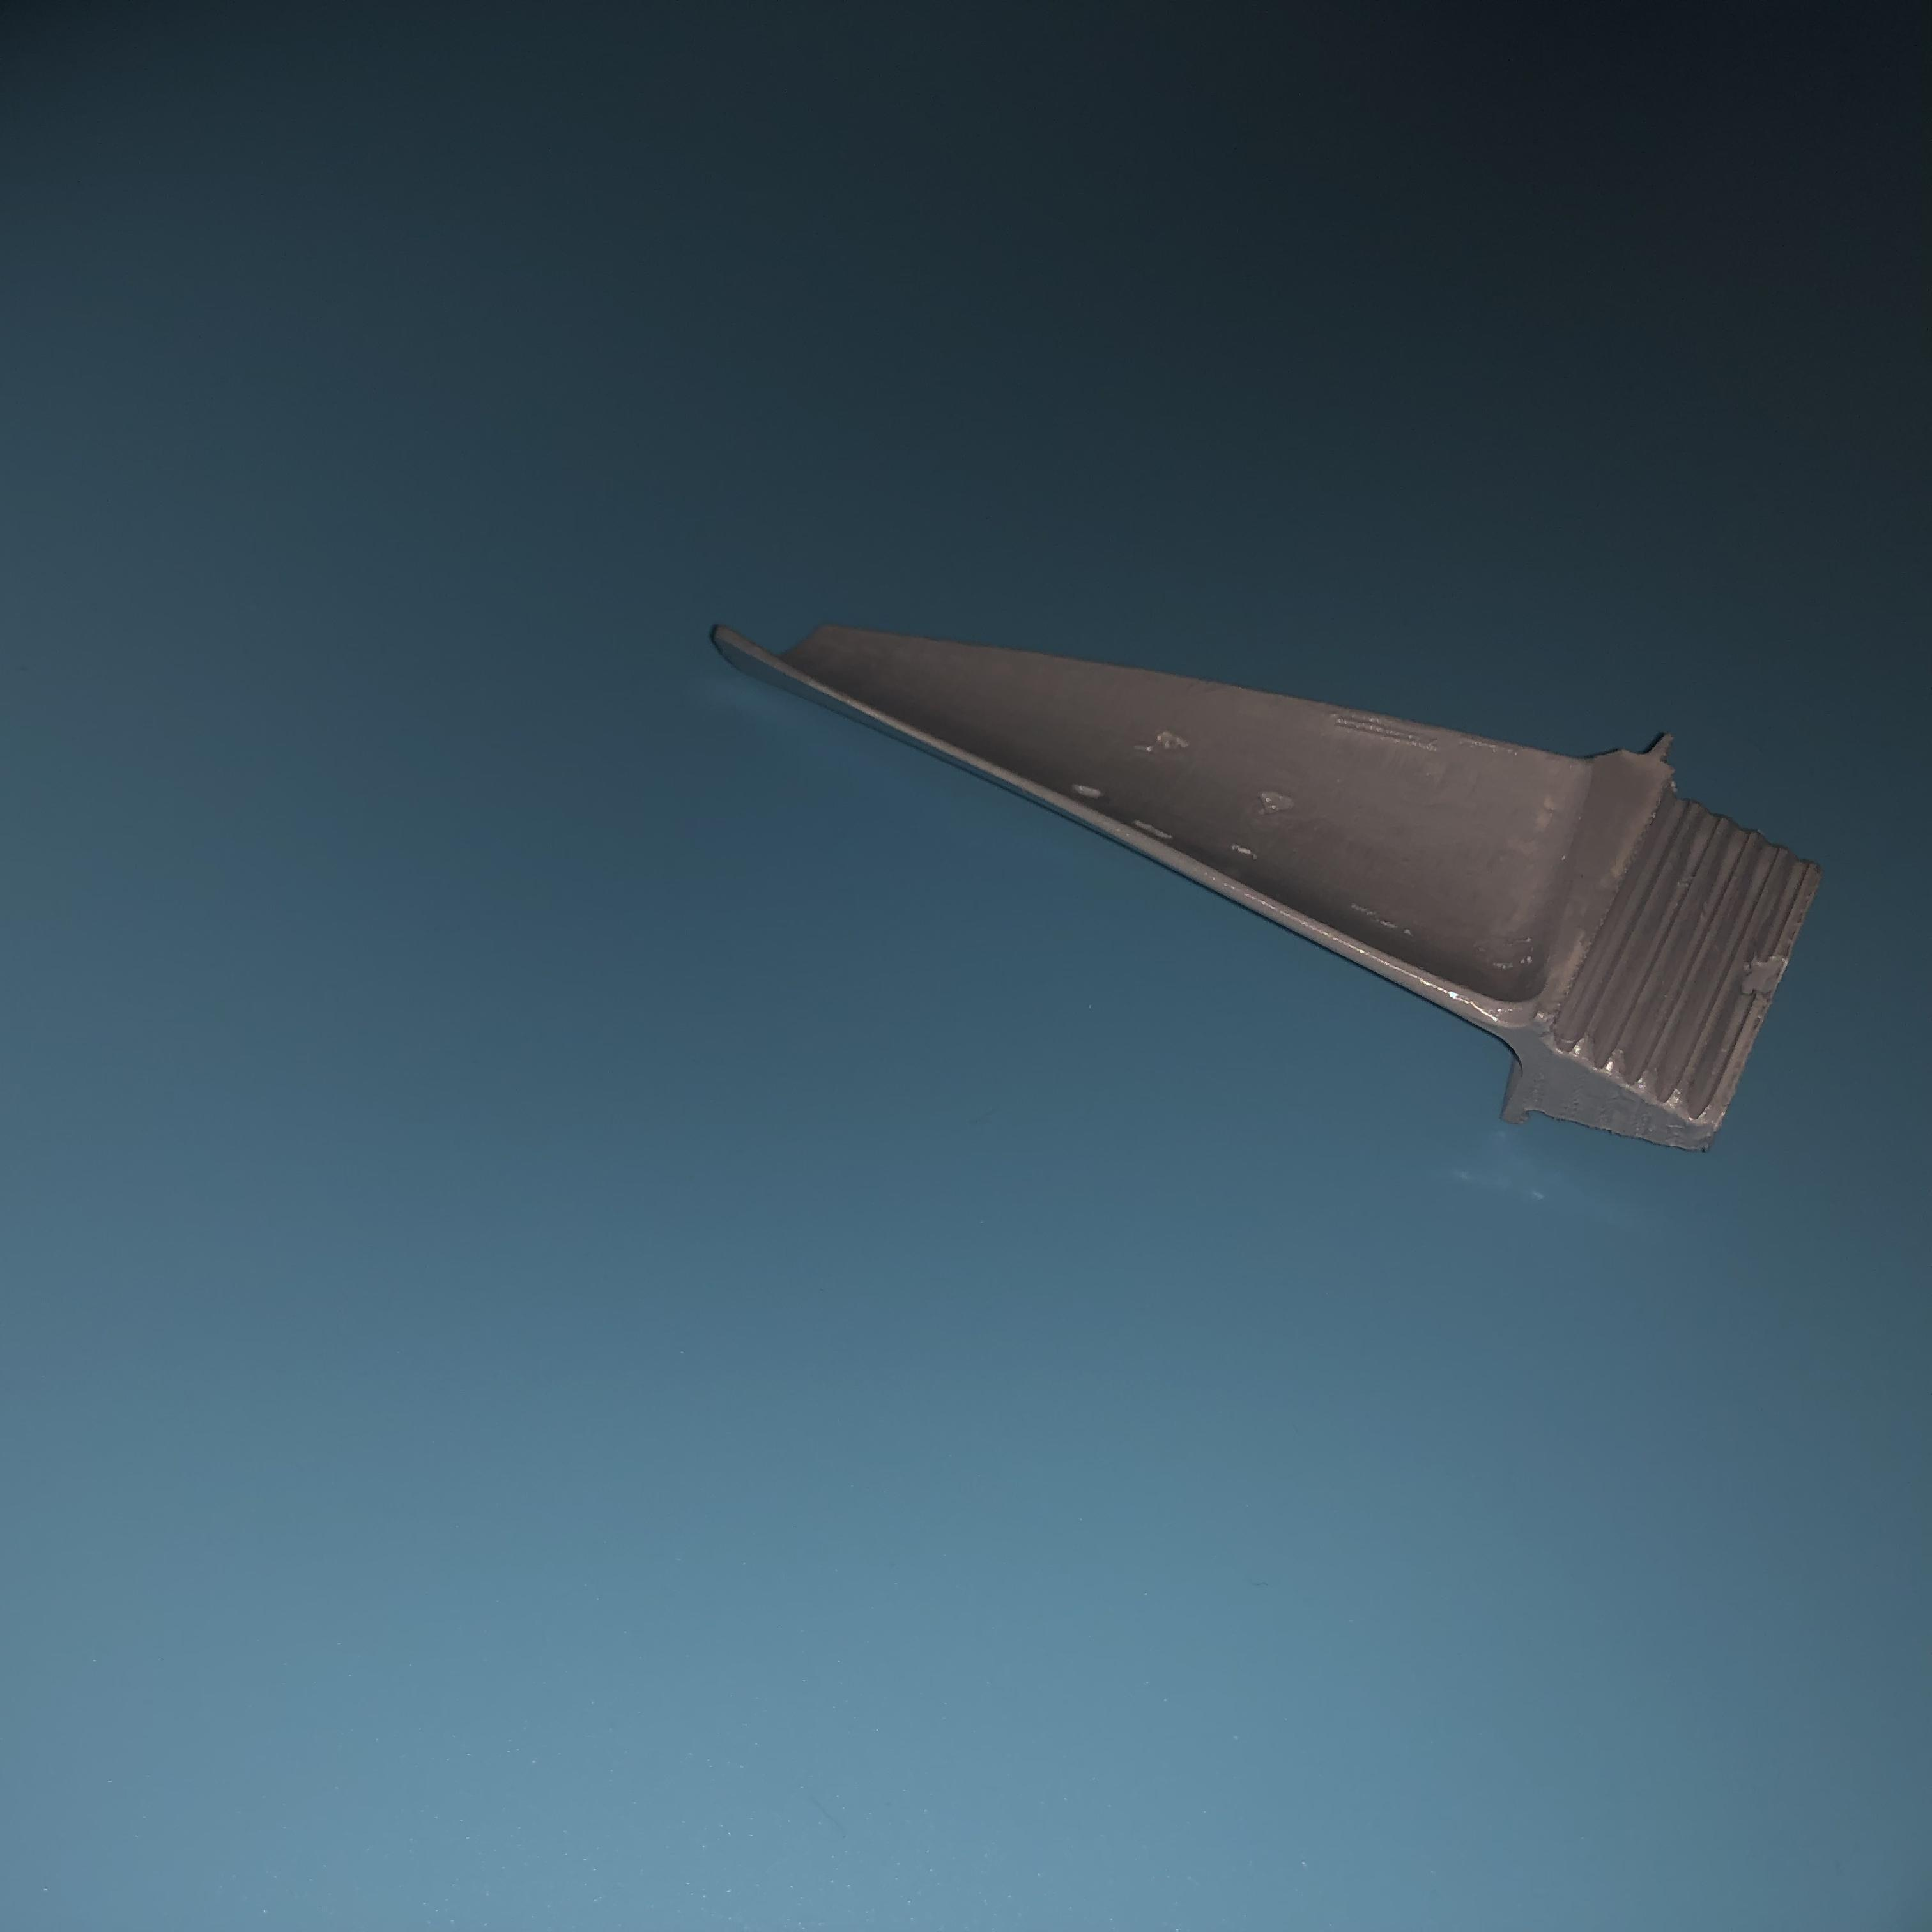breakdown: (1081, 731, 1304, 876)
